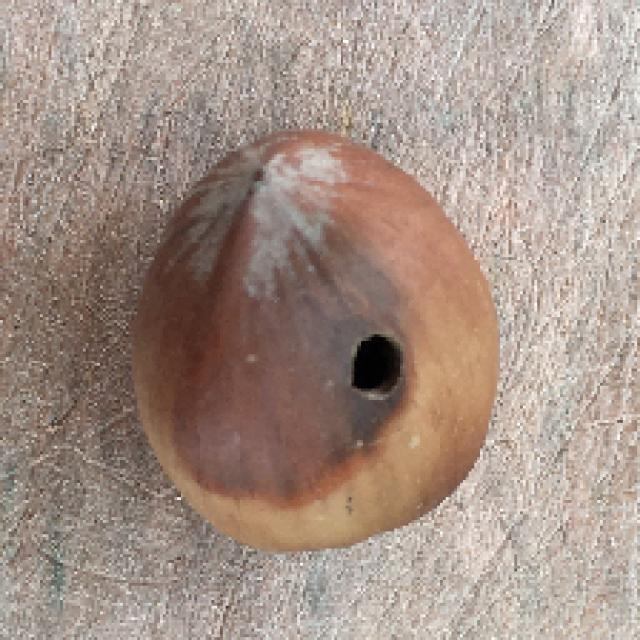damagedHazelnut: (132, 108, 500, 559)
